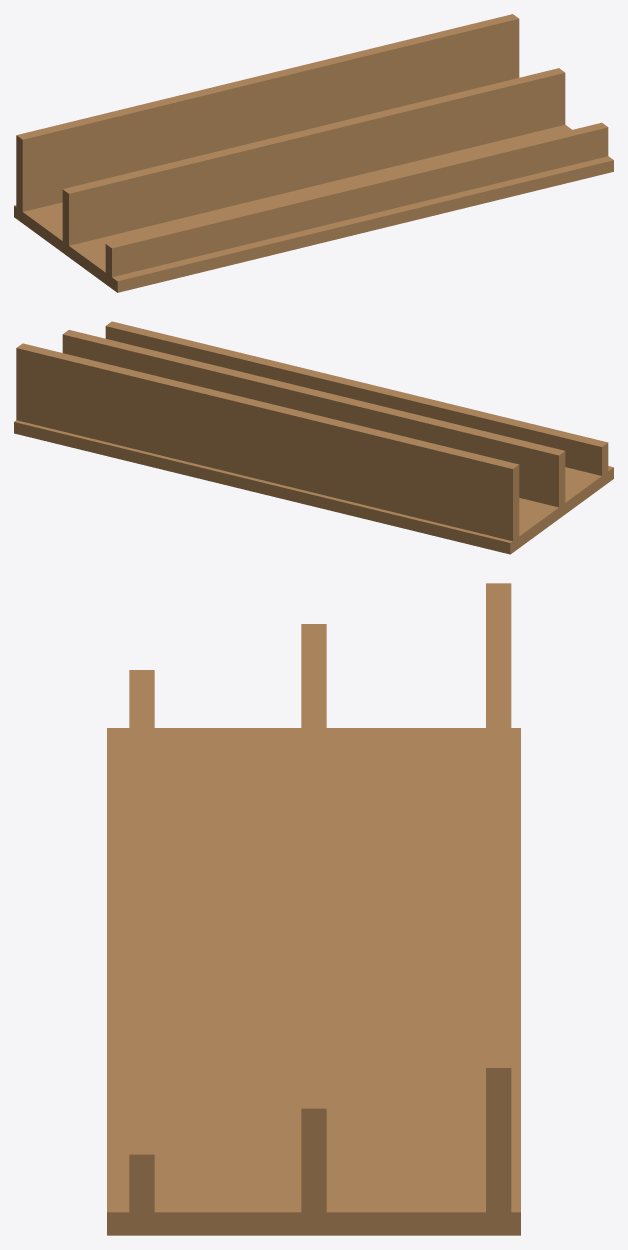
File: tabletop-game-components-tile-rack-be465f62__20875.glb
The picture shows the model from 3 angles, top to bottom: view 1: azimuth 30°, elevation 25°; view 2: azimuth 150°, elevation 25°; view 3: azimuth 270°, elevation 25°; orthographic projection. The views are drawn at different scales.
Visible parts, largest first — view 1: tile-rack; view 2: tile-rack; view 3: tile-rack.
Boxes of the visible parts, x1=… form: tile-rack: x1=14, y1=14, x2=613, y2=292; tile-rack: x1=14, y1=321, x2=613, y2=554; tile-rack: x1=107, y1=583, x2=520, y2=1235.
Size of the model in its own units: 0.18 by 0.029 by 0.065.
